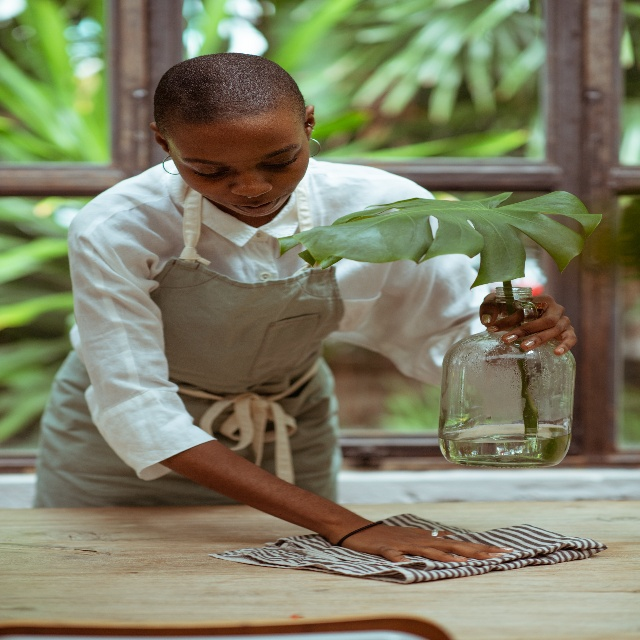Sin_guantes: (334, 497, 513, 570), (480, 289, 579, 359)
